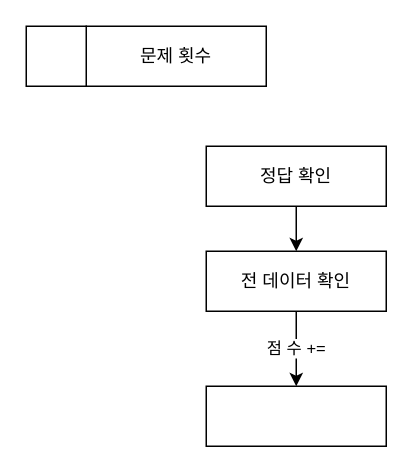
Image size: 413x473. Some labels were removed from this diagram. The box of each missing label's shape, as (x1, y1, x2, y2) in pixels:
for: (25, 25, 86, 86)
점수 총합: (205, 385, 386, 446)
